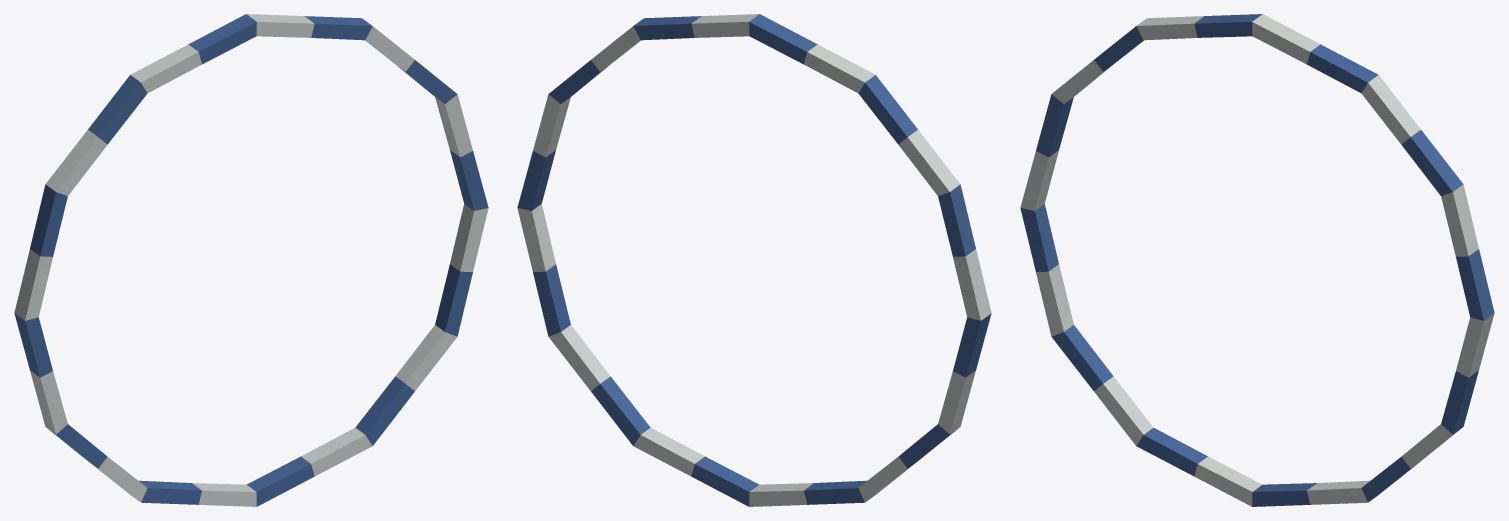
Rendered from SM_Prop_Plane_Ring_01_Anneau_de_pratique.glb.
The picture shows the model from 3 angles, left to right: view 1: azimuth 30°, elevation 25°; view 2: azimuth 150°, elevation 25°; view 3: azimuth 330°, elevation 25°; orthographic projection.
Parts seen in each view (by area): view 1: SM_Prop_Plane_Ring_01; view 2: SM_Prop_Plane_Ring_01; view 3: SM_Prop_Plane_Ring_01.
Boxes of the visible parts, <box> form: SM_Prop_Plane_Ring_01: <box>14,14,488,506</box>; SM_Prop_Plane_Ring_01: <box>517,14,991,506</box>; SM_Prop_Plane_Ring_01: <box>1020,14,1494,506</box>.
Size of the model in its own units: 17.38 by 17.38 by 0.695.
Materials: 1 (1 with a texture image).
